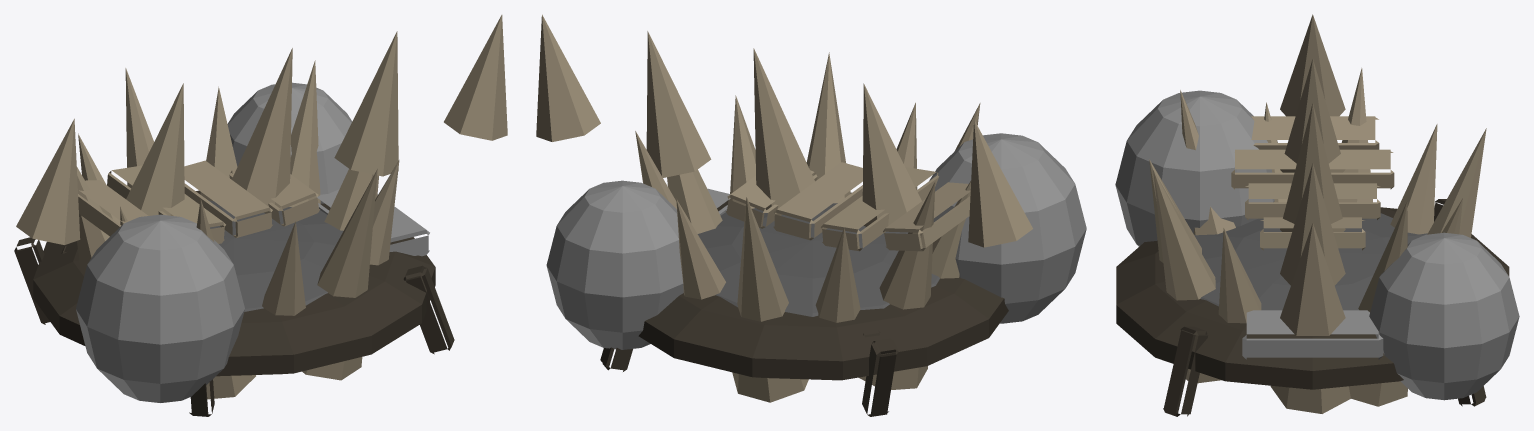
Rendered from bl_deeppit.glb.
The picture shows the model from 3 angles, left to right: view 1: azimuth 30°, elevation 25°; view 2: azimuth 150°, elevation 25°; view 3: azimuth 270°, elevation 25°; orthographic projection.
Parts seen in each view (by area): view 1: body; view 2: body; view 3: body.
Boxes of the visible parts, bbox=[...] form: body: bbox=[14, 15, 507, 416]; body: bbox=[536, 14, 1086, 416]; body: bbox=[1115, 14, 1519, 416].
Bounding box in the file's own units: 131 × 73.35 × 96.32.
